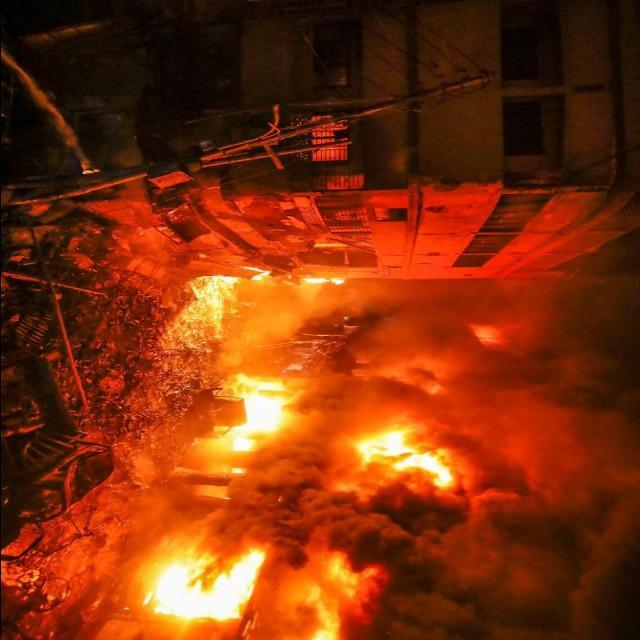Fire: (141, 546, 285, 629), (210, 368, 332, 453), (344, 420, 486, 488), (188, 270, 362, 290)
